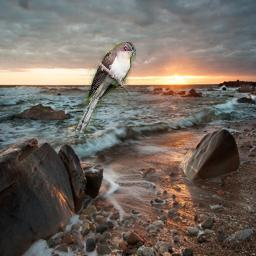Cuckoo: (76, 42, 137, 134)
